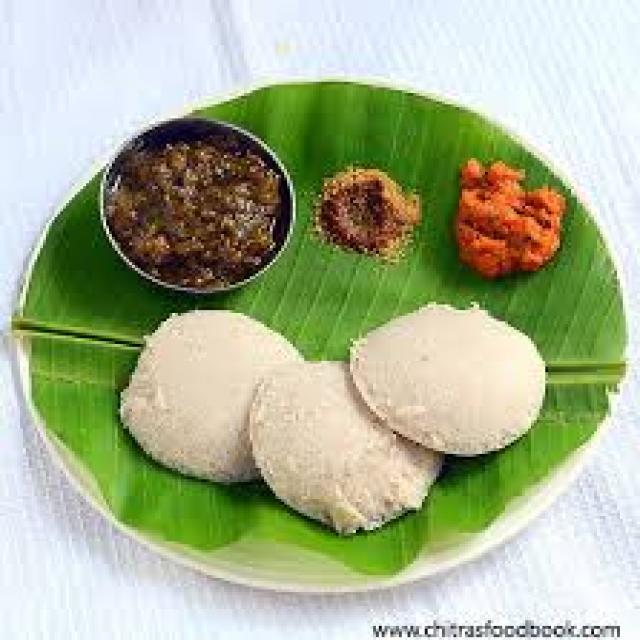IDLI: (245, 358, 440, 536), (119, 312, 302, 488), (350, 302, 550, 461)
